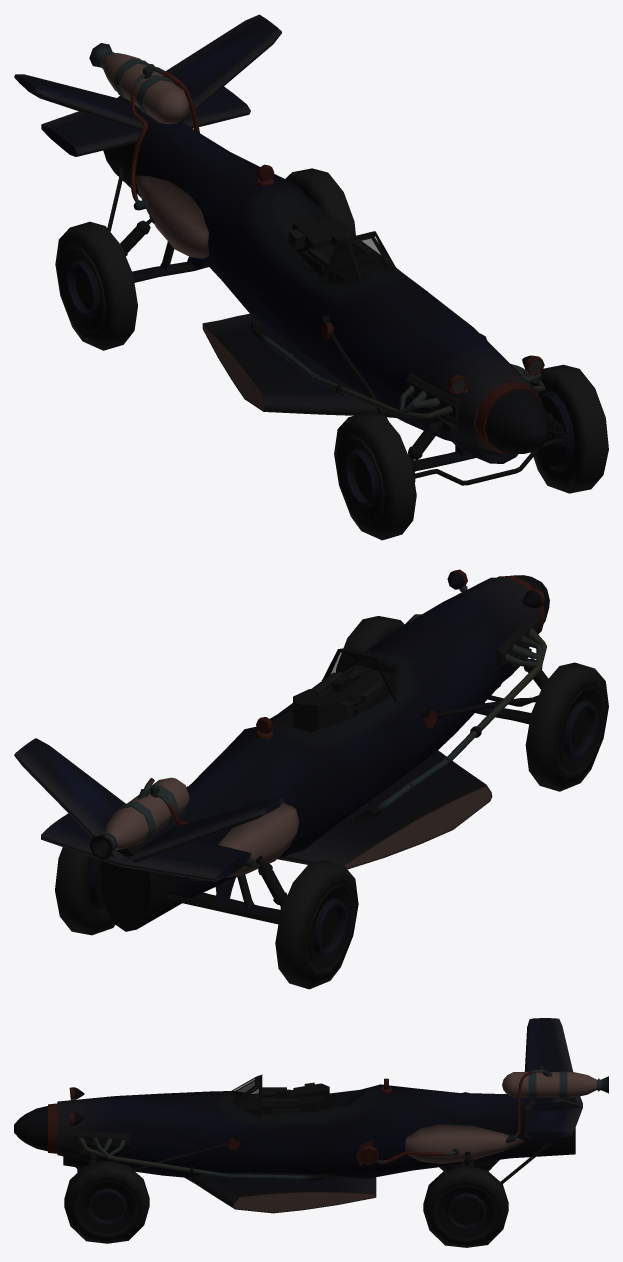
File: Car.fbx
3 renders of one model, top to bottom at view 1: azimuth 30°, elevation 25°; view 2: azimuth 150°, elevation 25°; view 3: azimuth 270°, elevation 25°, orthographic. The views are drawn at different scales.
Parts seen in each view (by area): view 1: Car1; view 2: Car1; view 3: Car1.
Part boxes in pixels (<box>): Car1: <box>14,14,608,540</box>; Car1: <box>14,569,608,989</box>; Car1: <box>14,1018,608,1247</box>.
Size of the model in its own units: 6.53 by 5.37 by 19.5.
